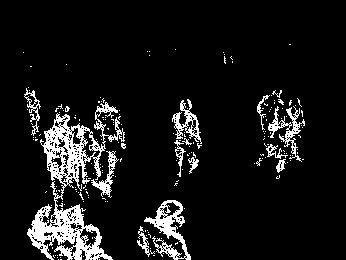person: (139, 200, 191, 260), (95, 98, 125, 199), (45, 103, 70, 208), (171, 99, 201, 186), (256, 90, 284, 165), (71, 121, 99, 195), (277, 97, 304, 171), (25, 87, 43, 139)
